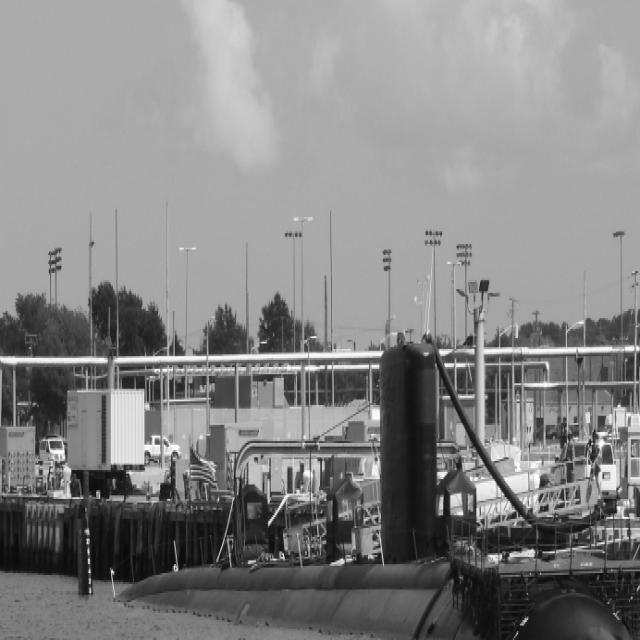submarine: (77, 344, 637, 640)
